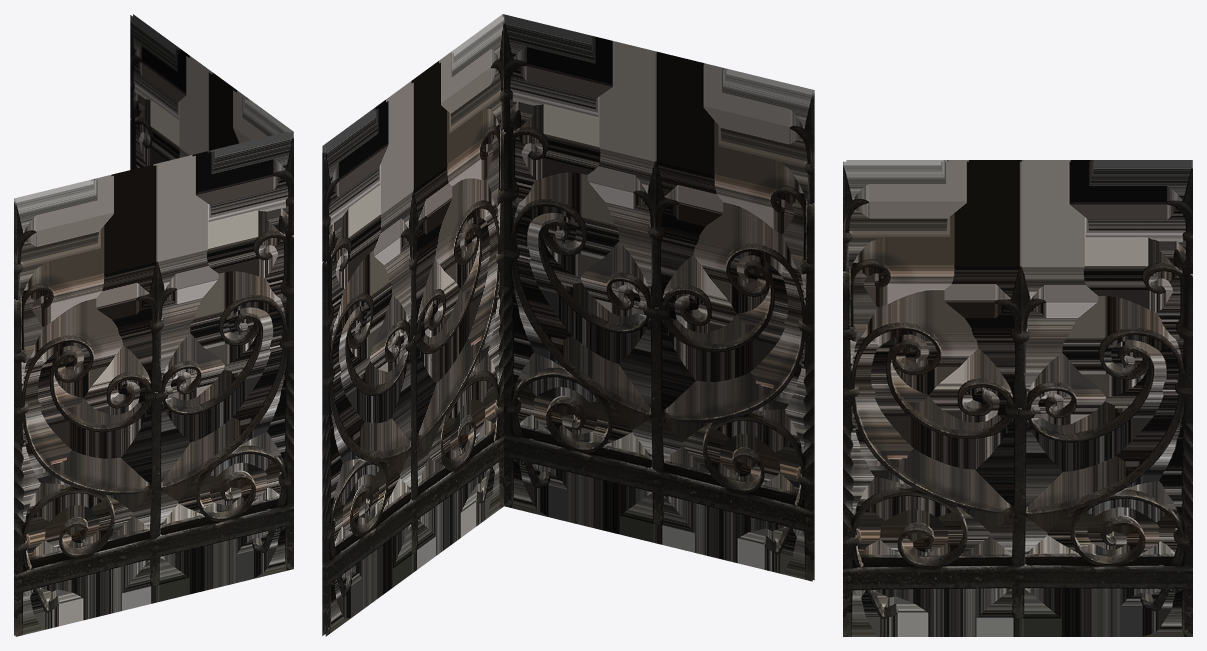
The model's file is RoofFenceCorner1A.fbx.
3 renders of one model, left to right at view 1: azimuth 30°, elevation 25°; view 2: azimuth 150°, elevation 25°; view 3: azimuth 270°, elevation 25°, orthographic. The views are drawn at different scales.
Visible parts, largest first — view 1: RoofFenceCorner1A; view 2: RoofFenceCorner1A; view 3: RoofFenceCorner1A.
Part boxes in pixels (box(x1,y1,x2,y2)): RoofFenceCorner1A: box(14, 14, 293, 636); RoofFenceCorner1A: box(322, 14, 814, 636); RoofFenceCorner1A: box(843, 160, 1192, 636).
Size of the model in its own units: 99.82 by 150 by 100.
